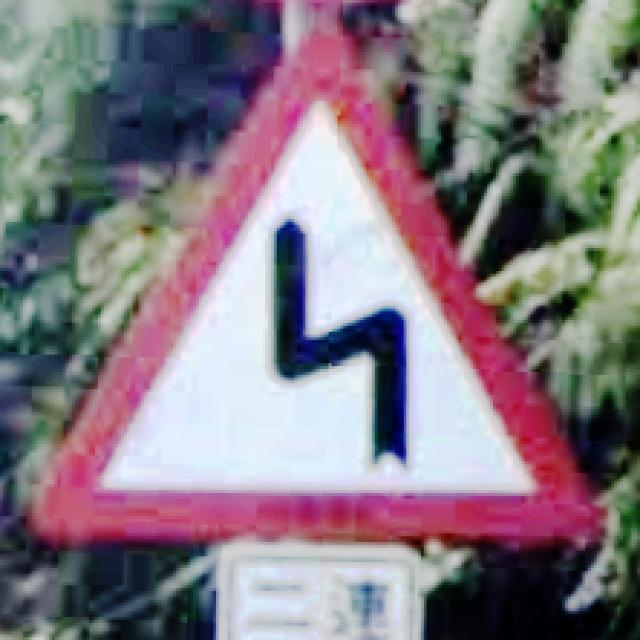doublebendleft: (40, 35, 591, 536)
